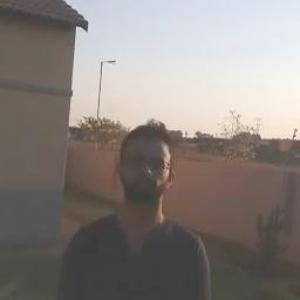follow: (52, 110, 215, 299)
